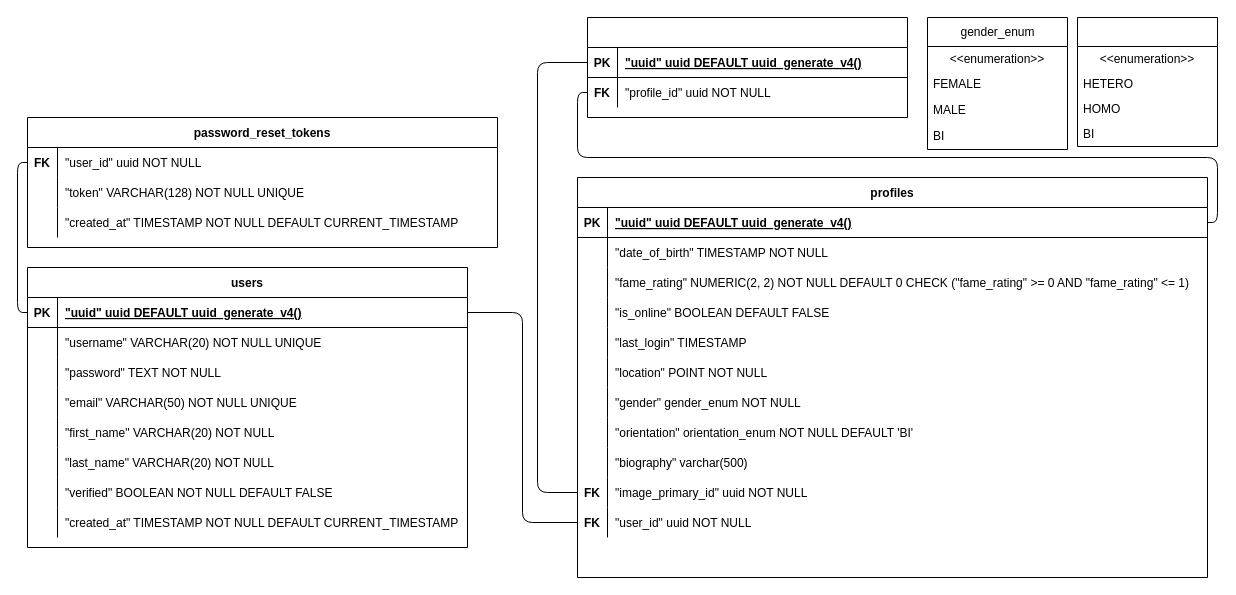
This 1236x595 diagram has some shape labels left out. Each missing label, with the box of its shape:
images: (586, 16, 908, 118)
orientation_enum: (1076, 16, 1218, 146)
